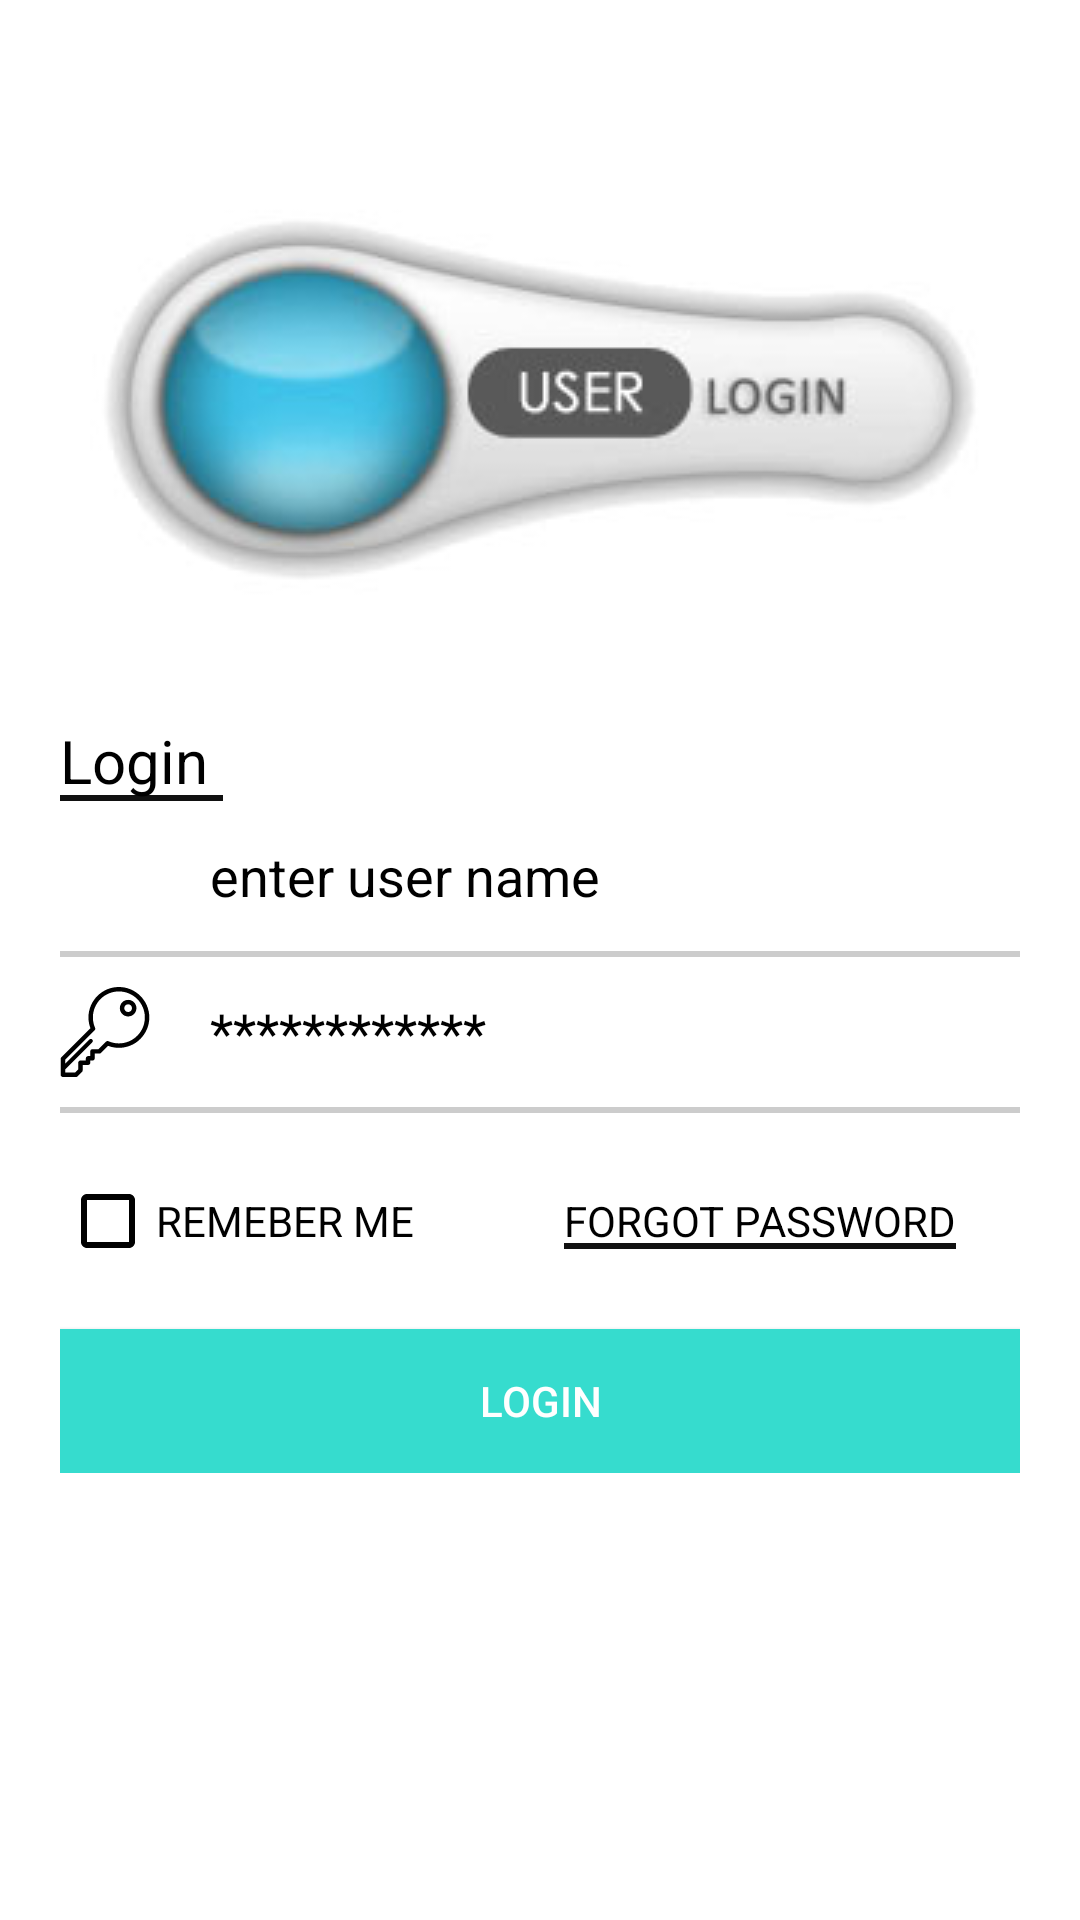

Icon bounding boxes for this 1080*1920 phone screenshot, format (x1, y1, x2, y2):
passwordicon: (60, 987, 150, 1077)
